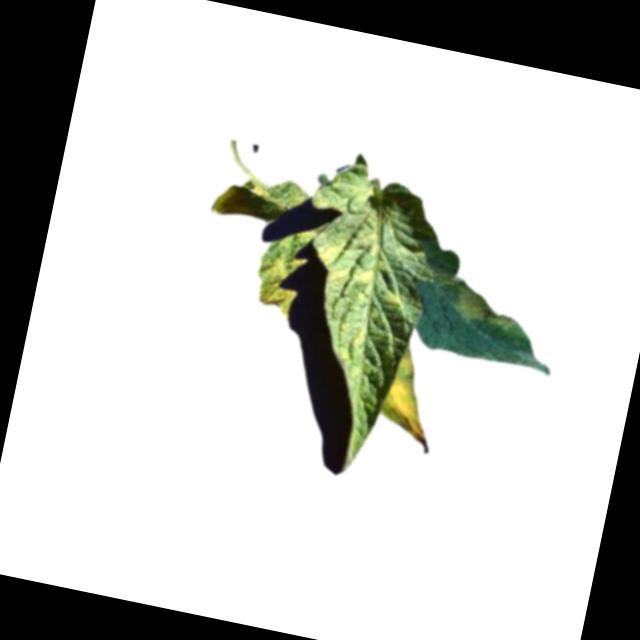Leaf_Mold: (375, 343, 450, 451), (311, 220, 385, 295), (449, 278, 532, 335), (248, 245, 305, 322)
